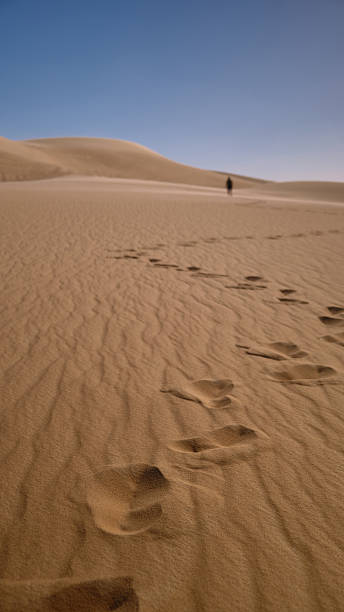human_footprint: (86, 463, 169, 535), (0, 576, 139, 611), (168, 424, 268, 461), (160, 379, 236, 408), (270, 363, 336, 384), (238, 341, 307, 360), (321, 332, 343, 346), (319, 316, 343, 326)
